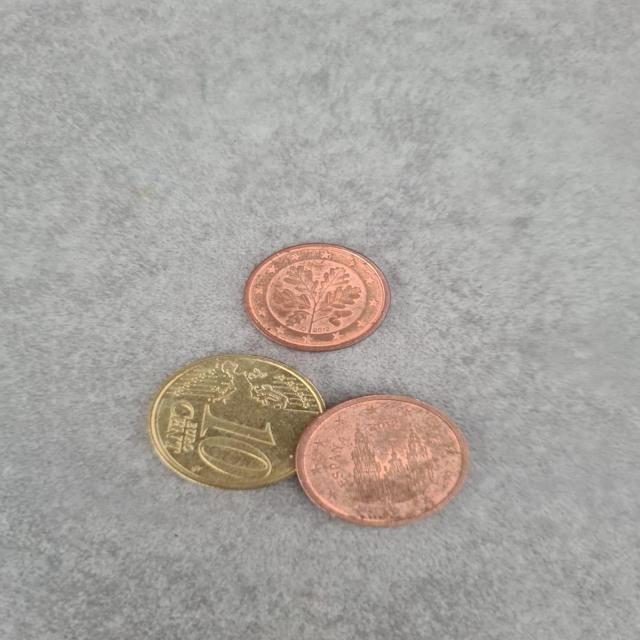10c: (142, 350, 338, 498)
2c: (232, 238, 406, 361)
5c: (286, 386, 474, 532)
